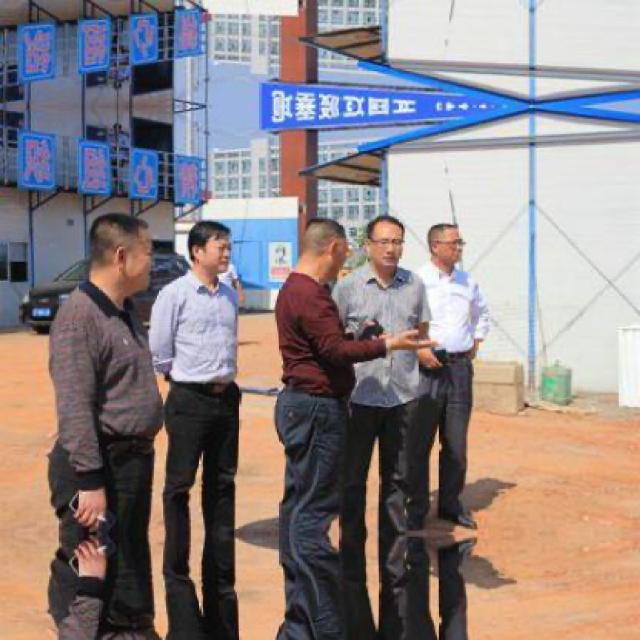sin casco: (58, 236, 174, 342), (314, 230, 445, 319), (245, 219, 355, 324), (181, 205, 289, 278), (414, 203, 497, 283)
